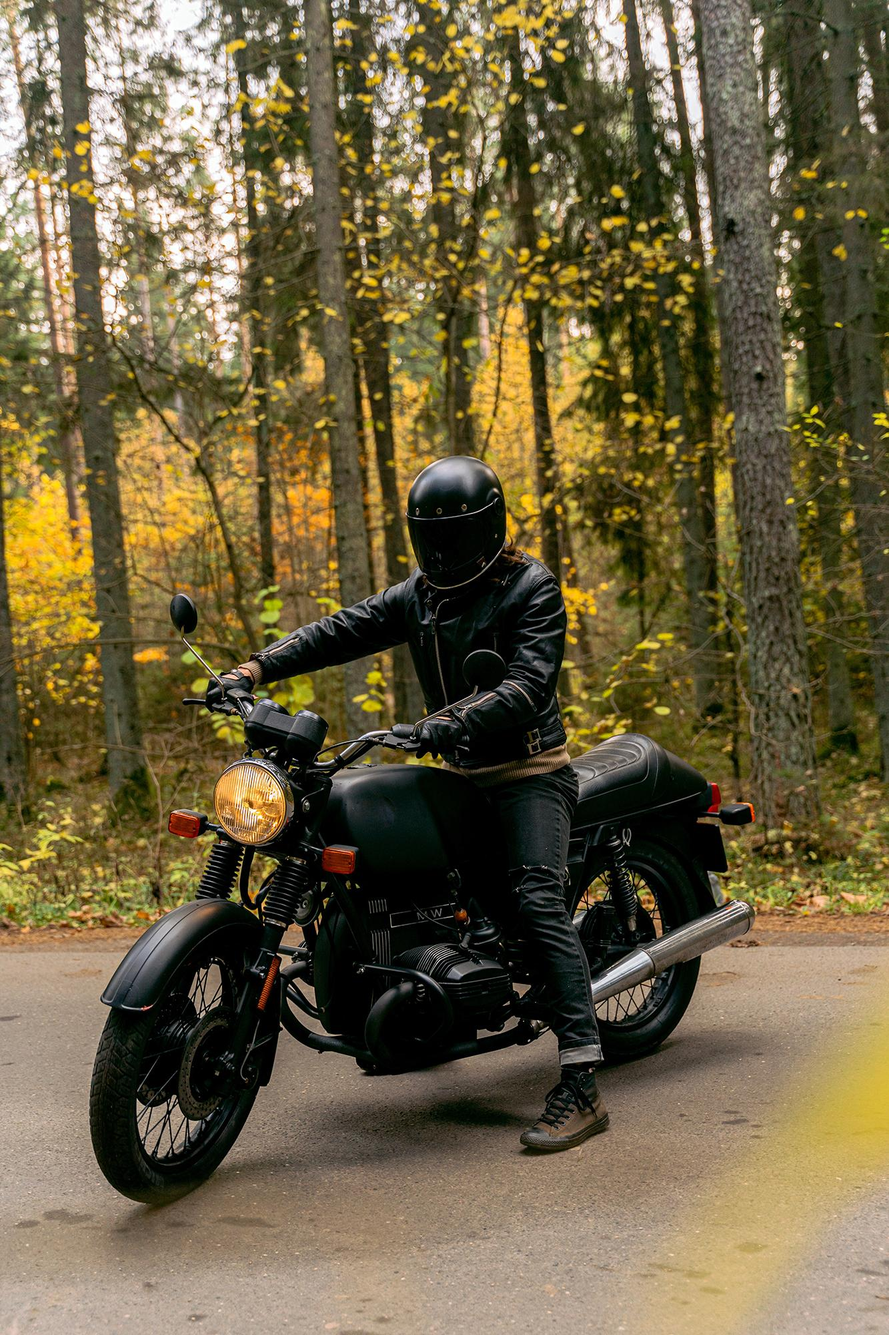helmet: (405, 455, 507, 590)
